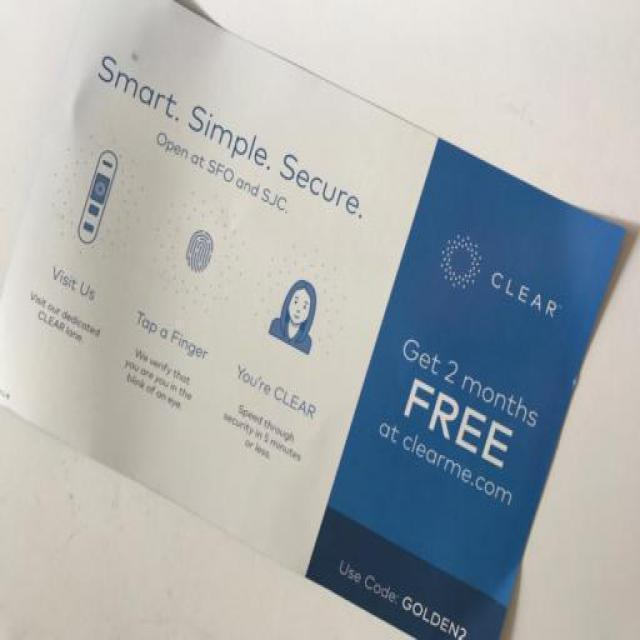cardboard paper: (0, 0, 635, 638)
